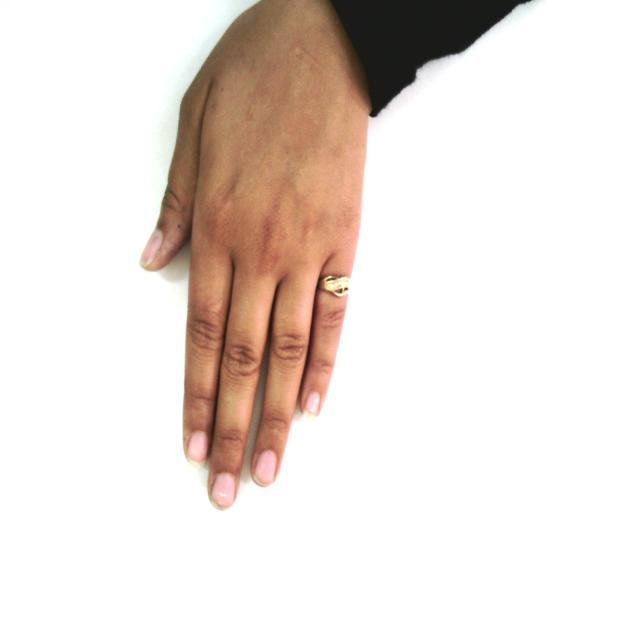Fingernail: (254, 449, 278, 486), (211, 472, 236, 507), (139, 230, 163, 266), (189, 430, 208, 467), (303, 391, 321, 419)
